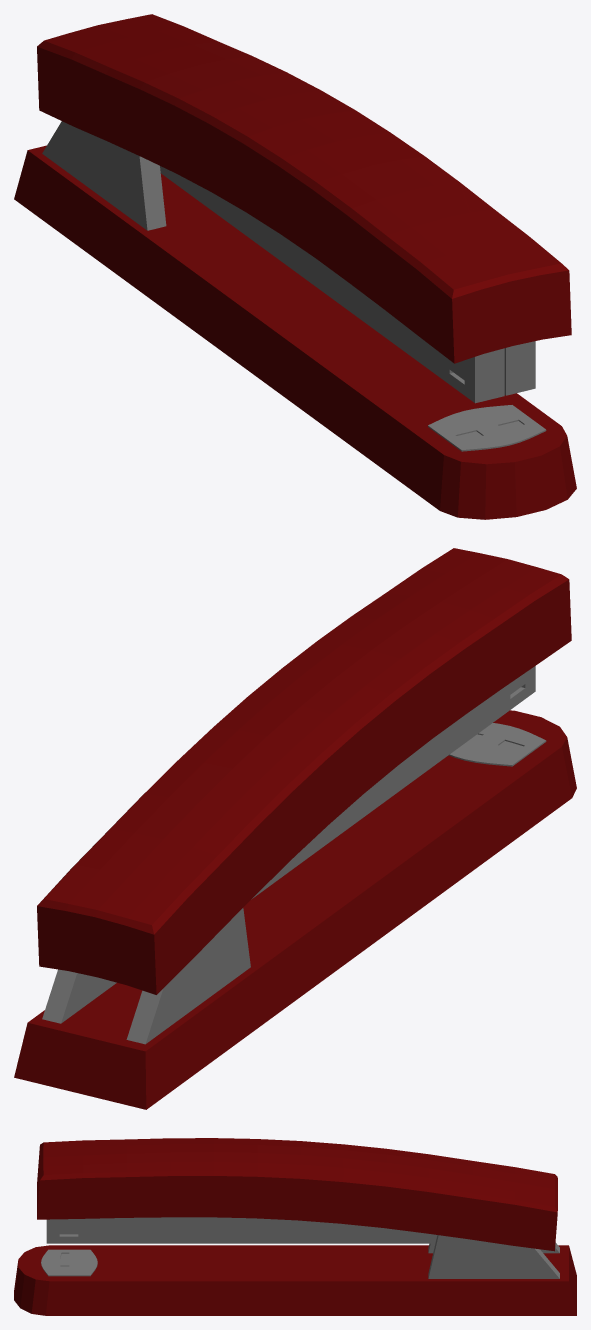
The model's file is stapler.fbx.
3 renders of one model, top to bottom at view 1: azimuth 30°, elevation 25°; view 2: azimuth 150°, elevation 25°; view 3: azimuth 270°, elevation 25°, orthographic. The views are drawn at different scales.
Parts seen in each view (by area): view 1: pCube9; view 2: pCube9; view 3: pCube9.
Part boxes in pixels (x1,y1,x2,y2): pCube9: (14, 14, 576, 519); pCube9: (14, 548, 576, 1109); pCube9: (14, 1138, 576, 1315).
Size of the model in its own units: 2.66 by 4.43 by 15.73.
